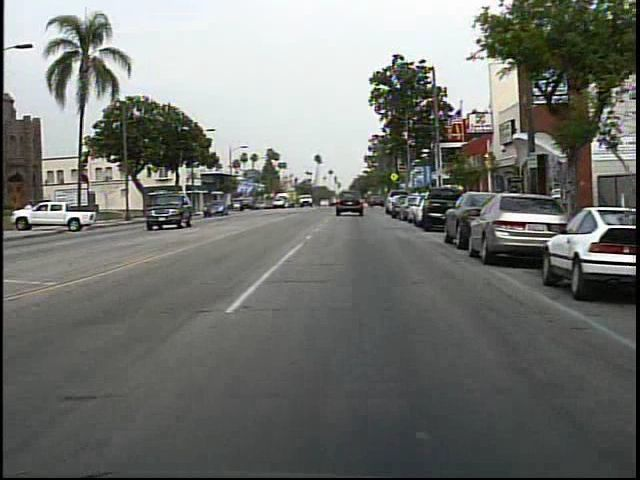person: (329, 187, 352, 217)
